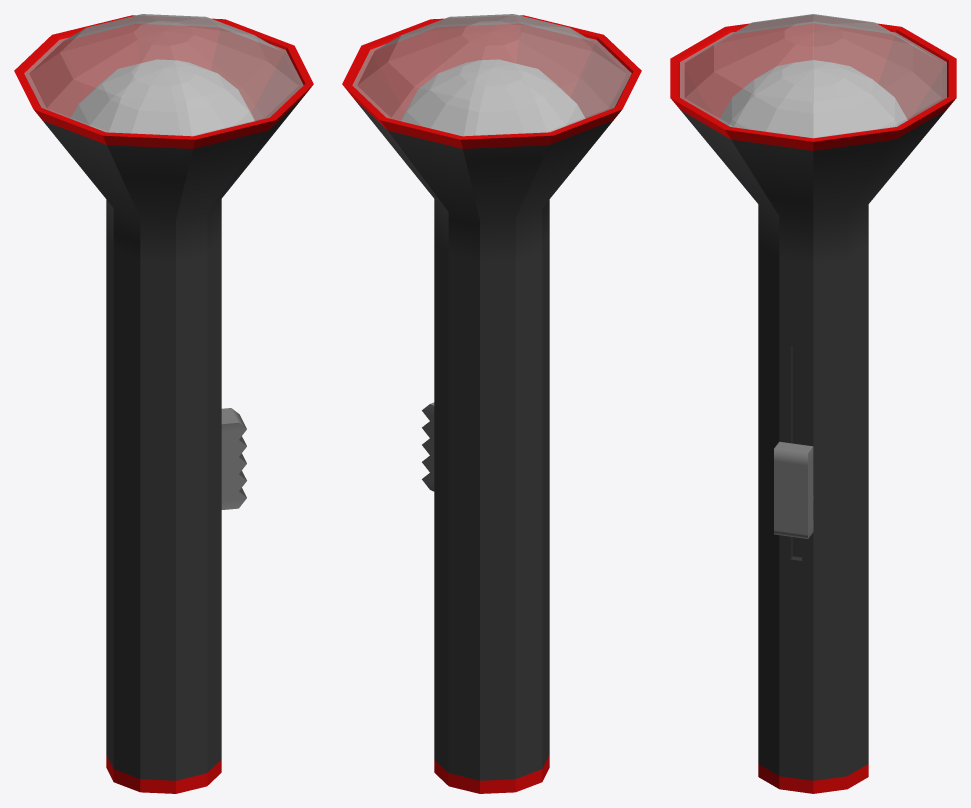
Rendered from Flashlight_Texture.fbx.
3 views of the same model, side by side, from view 1: azimuth 30°, elevation 25°; view 2: azimuth 150°, elevation 25°; view 3: azimuth 270°, elevation 25° (orthographic).
Visible parts, largest first — view 1: polySurface5; view 2: polySurface5; view 3: polySurface5.
Boxes of the visible parts, bbox=[...] form: polySurface5: bbox=[14, 14, 313, 793]; polySurface5: bbox=[342, 14, 641, 793]; polySurface5: bbox=[670, 14, 956, 793].
Bounding box in the file's own units: 25.95 × 70.1 × 24.68.
